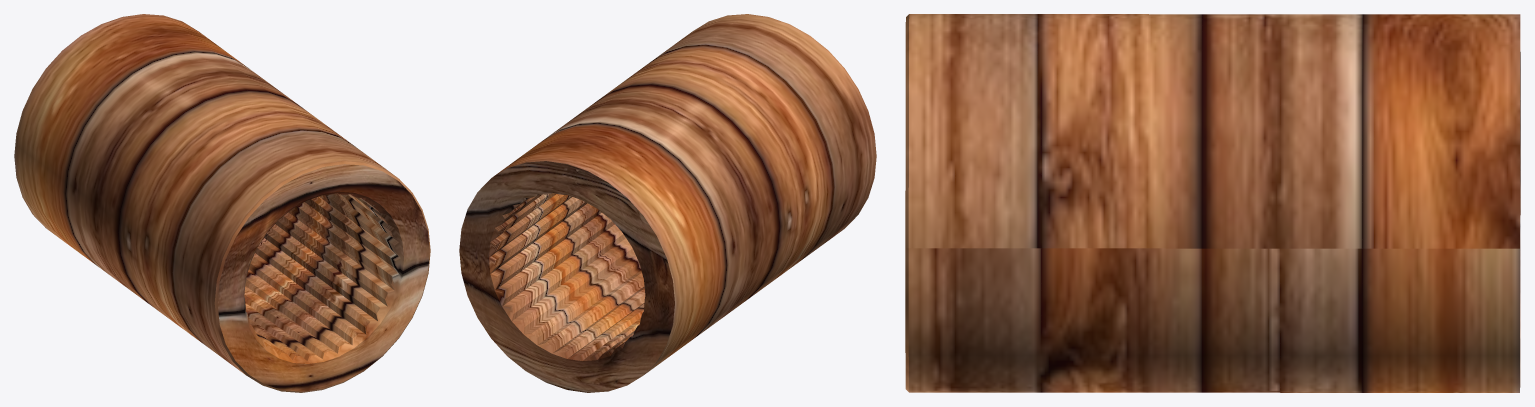
Rendered from N2TuberiaCilindro.fbx.
3 views of the same model, side by side, from view 1: azimuth 30°, elevation 25°; view 2: azimuth 150°, elevation 25°; view 3: azimuth 270°, elevation 25° (orthographic). The views are drawn at different scales.
Visible parts, largest first — view 1: pCylinder23.001; view 2: pCylinder23.001; view 3: pCylinder23.001.
Part boxes in pixels (bbox=[...]): pCylinder23.001: bbox=[14, 14, 430, 392]; pCylinder23.001: bbox=[459, 14, 876, 392]; pCylinder23.001: bbox=[905, 14, 1520, 392].
Size of the model in its own units: 618 by 616 by 1000.
Materials: 1 (1 with a texture image).
